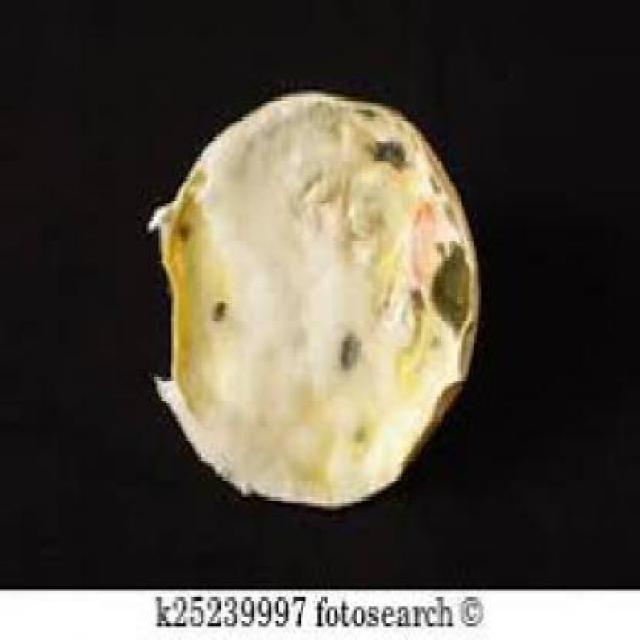BIODEGRADABLE: (142, 80, 478, 511)
